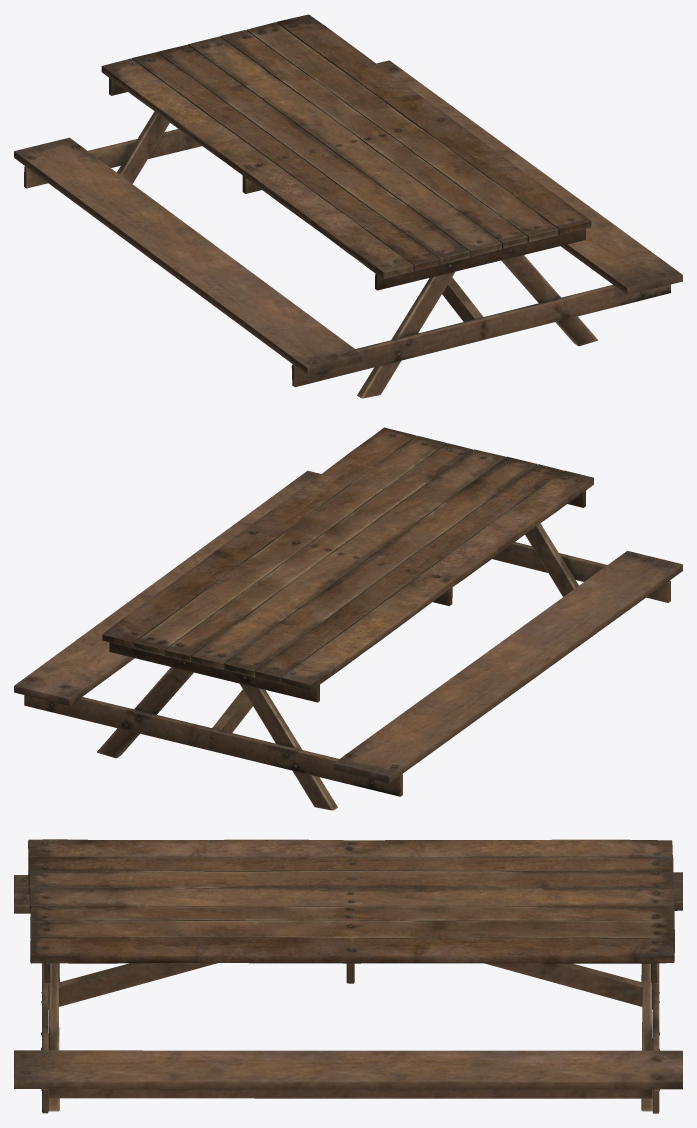
The model's file is wooden_picnic_table.glb.
3 views of the same model, one above another, from view 1: azimuth 30°, elevation 25°; view 2: azimuth 150°, elevation 25°; view 3: azimuth 270°, elevation 25° (orthographic). The views are drawn at different scales.
Visible parts, largest first — view 1: wooden_picnic_table; view 2: wooden_picnic_table; view 3: wooden_picnic_table.
Boxes of the visible parts, x1,y1,x2,y2 form: wooden_picnic_table: (14, 14, 682, 398); wooden_picnic_table: (14, 427, 682, 810); wooden_picnic_table: (14, 839, 682, 1113).
Size of the model in its own units: 2.24 by 0.7459 by 3.02.
1 material, 1 textured.
